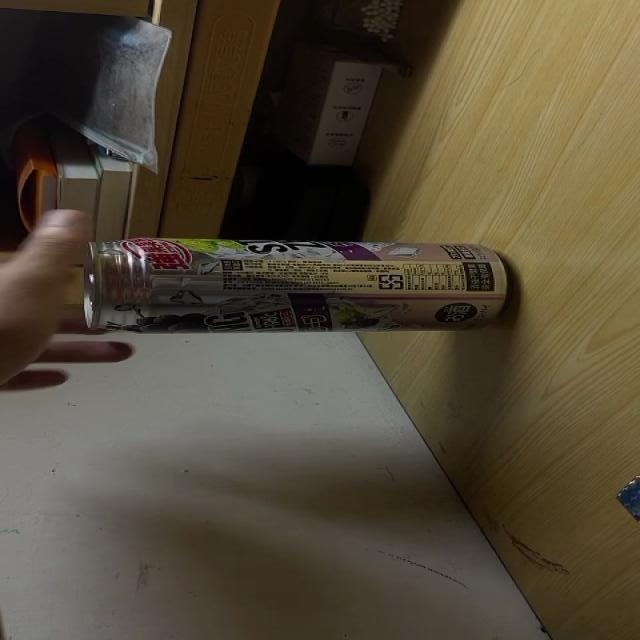Liquor: (82, 238, 506, 334)
